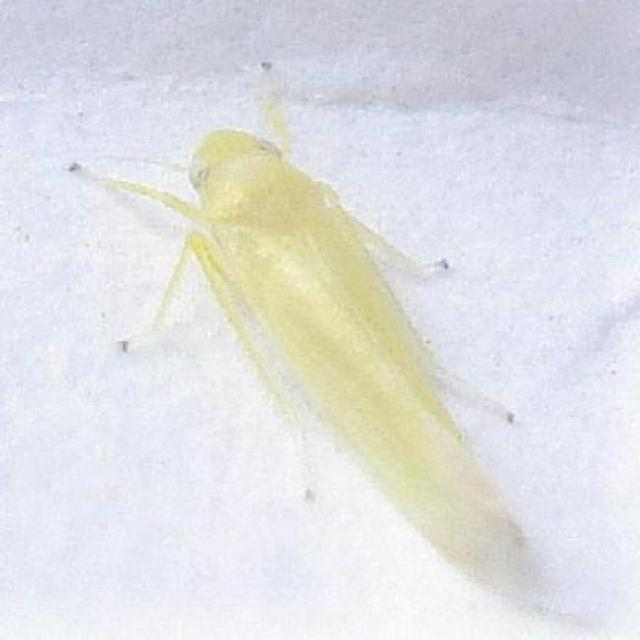green-leafhopper: (61, 81, 529, 580)
